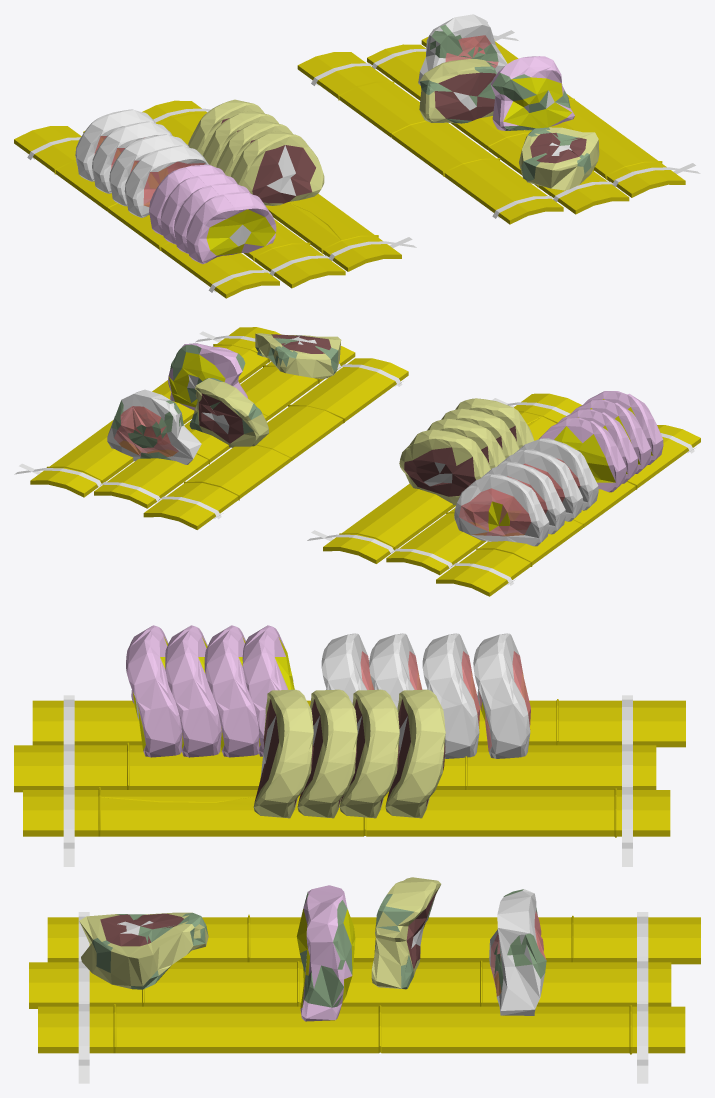
Rendered from Food_1.fbx.
3 views of the same model, one above another, from view 1: azimuth 30°, elevation 25°; view 2: azimuth 150°, elevation 25°; view 3: azimuth 270°, elevation 25° (orthographic). The views are drawn at different scales.
Parts seen in each view (by area): view 1: pasted__pCube16, pasted__pCylinder78; view 2: pasted__pCube16, pasted__pCylinder78; view 3: pasted__pCube16, pasted__pCylinder78.
Boxes of the visible parts, x1,y1,x2,y2 form: pasted__pCube16: (14,99,416,298); pasted__pCylinder78: (297,14,700,224); pasted__pCube16: (307,391,700,596); pasted__pCylinder78: (14,327,408,529); pasted__pCube16: (14,625,685,866); pasted__pCylinder78: (29,877,700,1083).
Bounding box in the file's own units: 4.22 × 0.6238 × 3.28.
